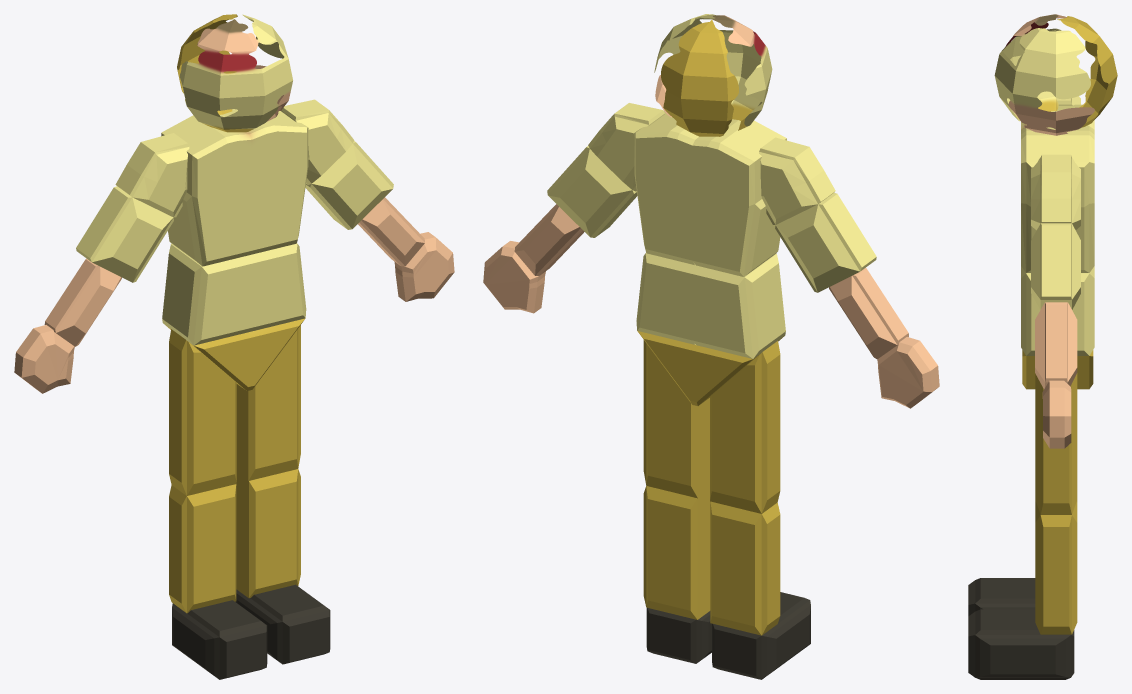
The model's file is Prototype_Export.fbx.
3 views of the same model, side by side, from view 1: azimuth 30°, elevation 25°; view 2: azimuth 150°, elevation 25°; view 3: azimuth 270°, elevation 25° (orthographic). The views are drawn at different scales.
Parts seen in each view (by area): view 1: Proto_Char; view 2: Proto_Char; view 3: Proto_Char.
Boxes of the visible parts, box(x1,y1,x2,y2) form: Proto_Char: box(14, 14, 454, 679); Proto_Char: box(483, 14, 939, 679); Proto_Char: box(968, 14, 1117, 679).
Size of the model in its own units: 3.79 by 5.19 by 1.11.
Materials: 1 (1 with a texture image).
